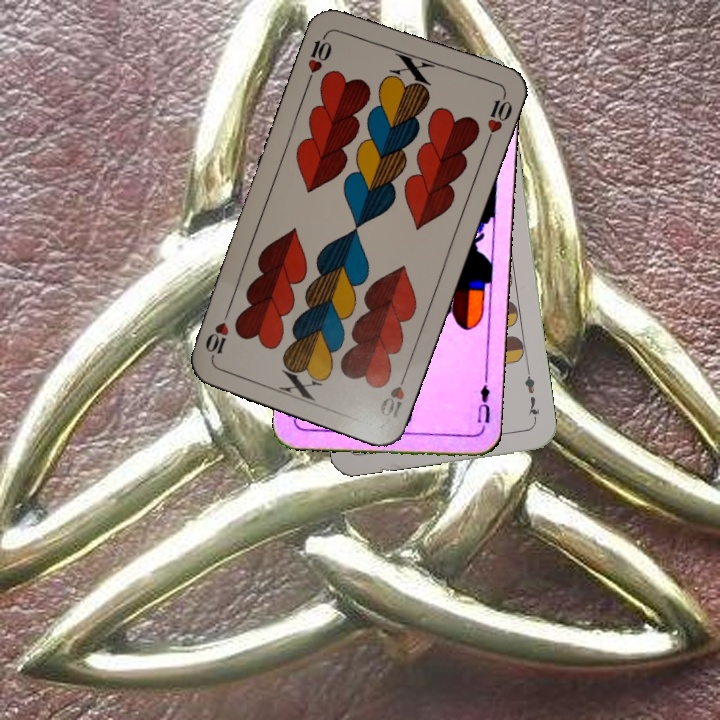E7: (520, 366, 542, 425)
EU: (467, 374, 493, 433)
H10: (375, 366, 411, 421), (303, 28, 335, 85)
